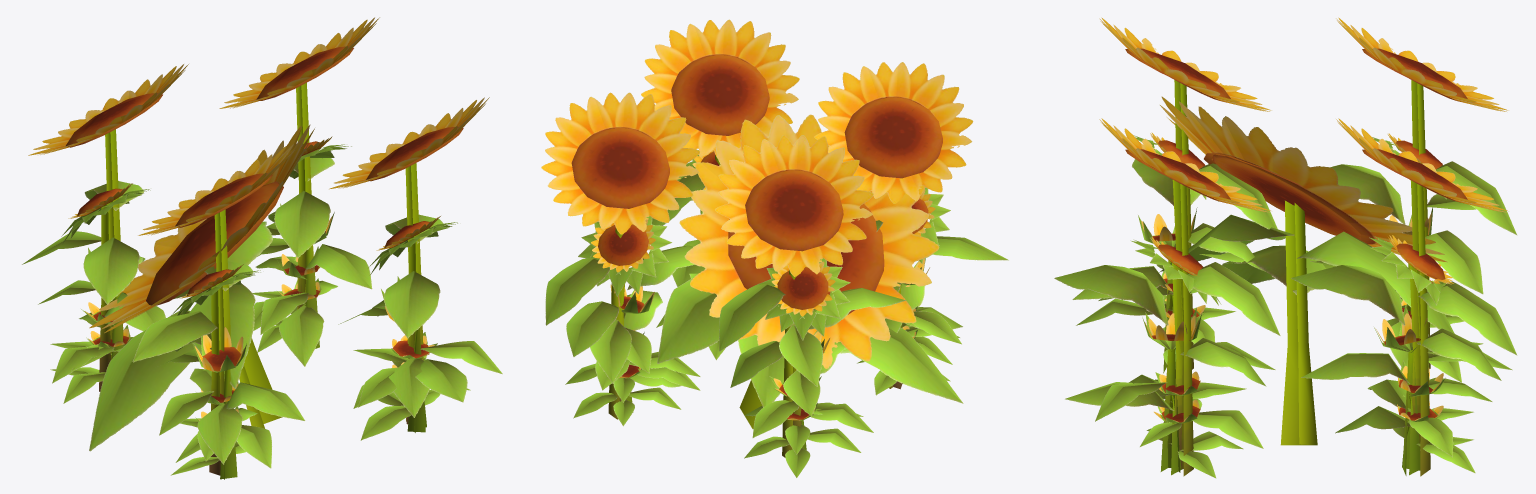
The model's file is Sunflower_Stages.fbx.
3 renders of one model, left to right at view 1: azimuth 30°, elevation 25°; view 2: azimuth 150°, elevation 25°; view 3: azimuth 270°, elevation 25°, orthographic. The views are drawn at different scales.
Visible parts, largest first — view 1: Sunflower_Finish, Sunflower, Sunflower_Prized; view 2: Sunflower_Finish, Sunflower, Sunflower_Prized; view 3: Sunflower_Finish, Sunflower, Sunflower_Prized.
Part boxes in pixels (<box>): Sunflower_Finish: <box>22,17,489,464</box>; Sunflower: <box>38,136,502,479</box>; Sunflower_Prized: <box>89,124,314,451</box>; Sunflower_Finish: <box>541,19,1008,457</box>; Sunflower: <box>565,150,961,477</box>; Sunflower_Prized: <box>657,114,963,428</box>; Sunflower_Finish: <box>1054,17,1517,476</box>; Sunflower: <box>1065,132,1501,478</box>; Sunflower_Prized: <box>1159,96,1454,445</box>.
Bounding box in the file's own units: 201 × 178 × 200.
